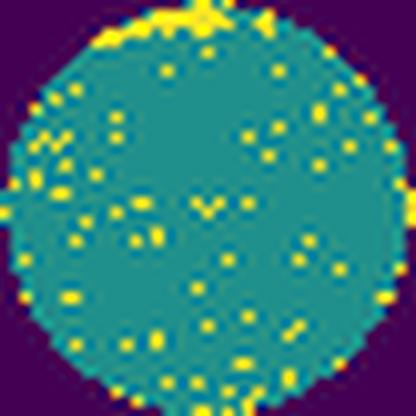Edge-Loc: (89, 0, 240, 55)
